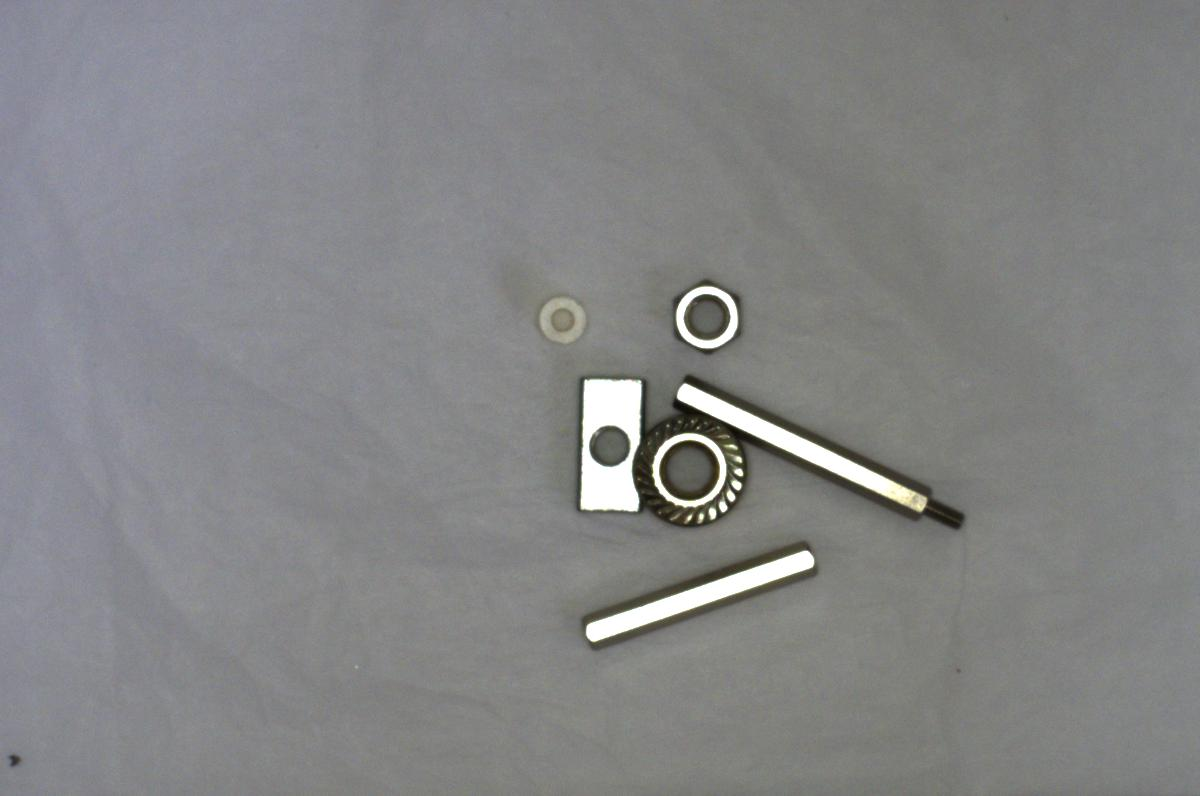Flange nut: (628, 414, 748, 529)
Hexagon nut: (655, 272, 753, 359)
Hexagonal steel column: (670, 369, 974, 535)
Plastic cushion pillar: (528, 283, 595, 345)
Rectangular nut: (562, 374, 653, 522)
Spring washer: (581, 536, 822, 650)
